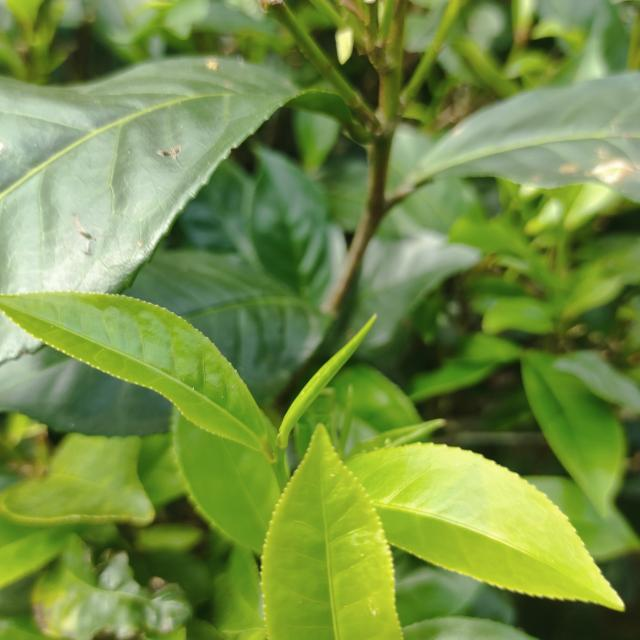unopened_leaf: (273, 306, 383, 456)
